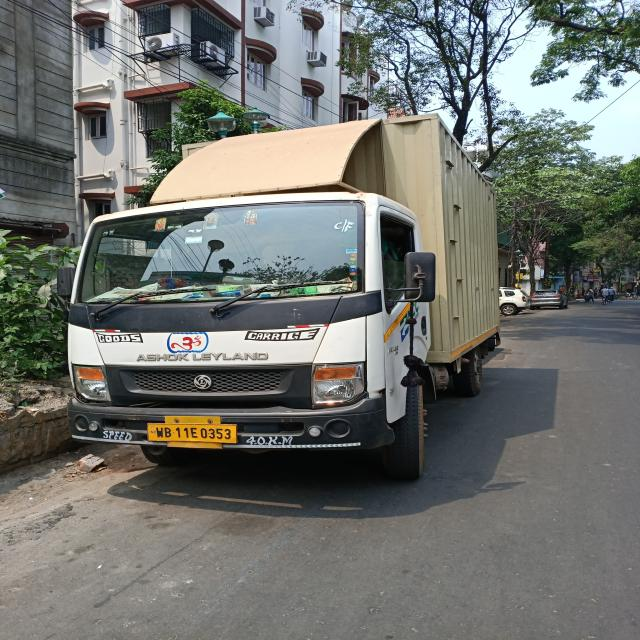Bike: (580, 289, 594, 304)
Car: (496, 277, 539, 323), (534, 281, 572, 312)
Truck: (24, 135, 512, 488)
